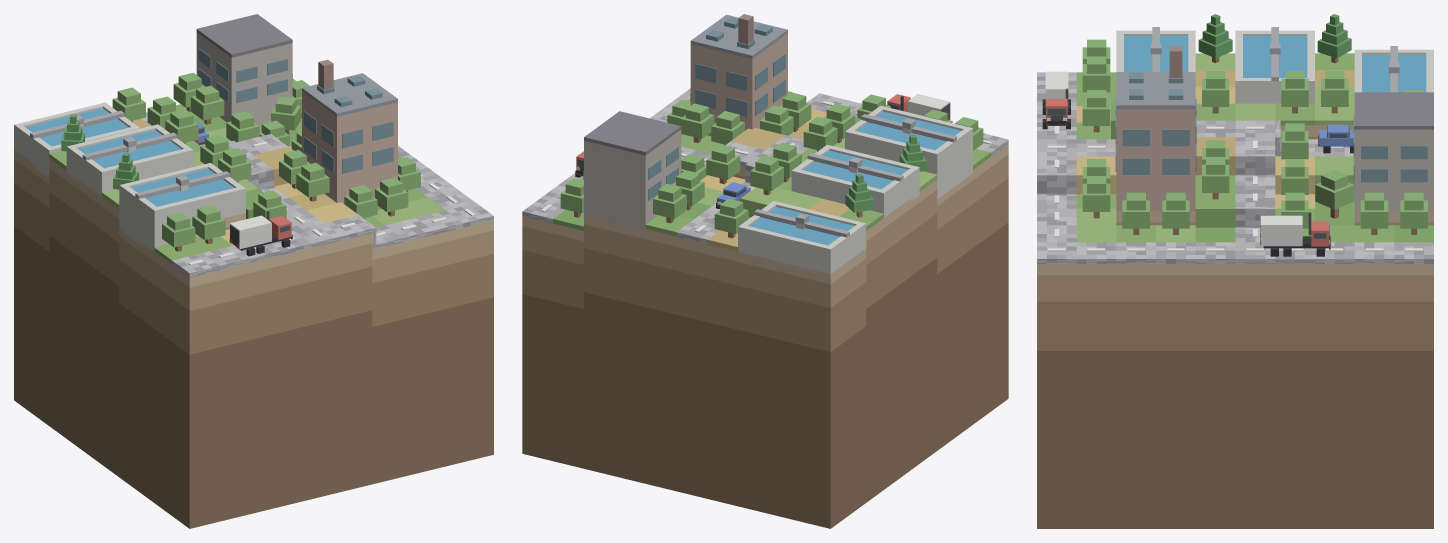
The model's file is block_12_permeable_40.glb.
3 renders of one model, left to right at view 1: azimuth 30°, elevation 25°; view 2: azimuth 150°, elevation 25°; view 3: azimuth 270°, elevation 25°, orthographic. The views are drawn at different scales.
Visible parts, largest first — view 1: Patch_LowerLeft_b11_PP, Factories_LowerLeft_b11_PP, Tanks_LowerLeft_PP, Roads_LowerLeft_b11_PP, Ground_LowerLeft_b11_PP, Asset_Truck.006_PP, Asset_Tree_Round.103_PP, Asset_Tree_Round.075_PP, Asset_Tree_Round.106_PP, Asset_Tree_Round.107_PP, Asset_Tree_Round.110_PP, Asset_Tree_Round.100_PP (+14 smaller); view 2: Patch_LowerLeft_b11_PP, Tanks_LowerLeft_PP, Factories_LowerLeft_b11_PP, Ground_LowerLeft_b11_PP, Roads_LowerLeft_b11_PP, Asset_Truck.006_PP, Asset_Tree_Round.081_PP, Asset_Tree_Round.073_PP, Asset_Tree_Round.078_PP, Asset_Tree_Round.092_PP, Asset_Tree_Round.072_PP, Asset_Tree_Round.090_PP (+9 smaller); view 3: Patch_LowerLeft_b11_PP, Factories_LowerLeft_b11_PP, Roads_LowerLeft_b11_PP, Ground_LowerLeft_b11_PP, Tanks_LowerLeft_PP, Asset_Truck.005_PP, RoadLines_LowerLeft_b11_PP, Asset_Truck.006_PP, Asset_Tree_Round.059_PP, Asset_Tree_Pine.001_PP, Asset_Tree_Pine.003_PP, Asset_Tree_Round.076_PP (+17 smaller).
Boxes of the visible parts, x1,y1,x2,y2 form: Patch_LowerLeft_b11_PP: [14, 126, 493, 528]; Factories_LowerLeft_b11_PP: [196, 14, 397, 203]; Tanks_LowerLeft_PP: [14, 102, 245, 252]; Roads_LowerLeft_b11_PP: [141, 112, 493, 277]; Ground_LowerLeft_b11_PP: [49, 104, 445, 264]; Asset_Truck.006_PP: [229, 211, 292, 256]; Asset_Tree_Round.103_PP: [296, 162, 329, 201]; Asset_Tree_Round.075_PP: [191, 85, 224, 124]; Asset_Tree_Round.106_PP: [162, 212, 195, 251]; Asset_Tree_Round.107_PP: [192, 205, 225, 244]; Asset_Tree_Round.110_PP: [375, 177, 408, 216]; Asset_Tree_Round.100_PP: [218, 148, 251, 182]; Patch_LowerLeft_b11_PP: [522, 144, 1008, 528]; Tanks_LowerLeft_PP: [738, 105, 972, 275]; Factories_LowerLeft_b11_PP: [584, 14, 787, 232]; Ground_LowerLeft_b11_PP: [553, 108, 990, 251]; Roads_LowerLeft_b11_PP: [522, 88, 1008, 243]; Asset_Truck.006_PP: [887, 94, 950, 120]; Asset_Tree_Round.081_PP: [706, 144, 740, 184]; Asset_Tree_Round.073_PP: [653, 183, 686, 223]; Asset_Tree_Round.078_PP: [750, 155, 783, 195]; Asset_Tree_Round.092_PP: [680, 103, 714, 142]; Asset_Tree_Round.072_PP: [714, 198, 748, 238]; Asset_Tree_Round.090_PP: [803, 116, 837, 151]; Patch_LowerLeft_b11_PP: [1037, 125, 1433, 528]; Factories_LowerLeft_b11_PP: [1115, 46, 1433, 211]; Roads_LowerLeft_b11_PP: [1037, 72, 1433, 263]; Ground_LowerLeft_b11_PP: [1076, 53, 1433, 242]; Tanks_LowerLeft_PP: [1116, 27, 1433, 103]; Asset_Truck.005_PP: [1260, 212, 1330, 256]; RoadLines_LowerLeft_b11_PP: [1048, 126, 1422, 251]; Asset_Truck.006_PP: [1042, 71, 1070, 129]; Asset_Tree_Round.059_PP: [1315, 169, 1354, 218]; Asset_Tree_Pine.001_PP: [1198, 14, 1232, 63]; Asset_Tree_Pine.003_PP: [1317, 14, 1351, 62]; Asset_Tree_Round.076_PP: [1360, 192, 1388, 234].
Size of the model in its own units: 9.5 by 11.13 by 9.5.
